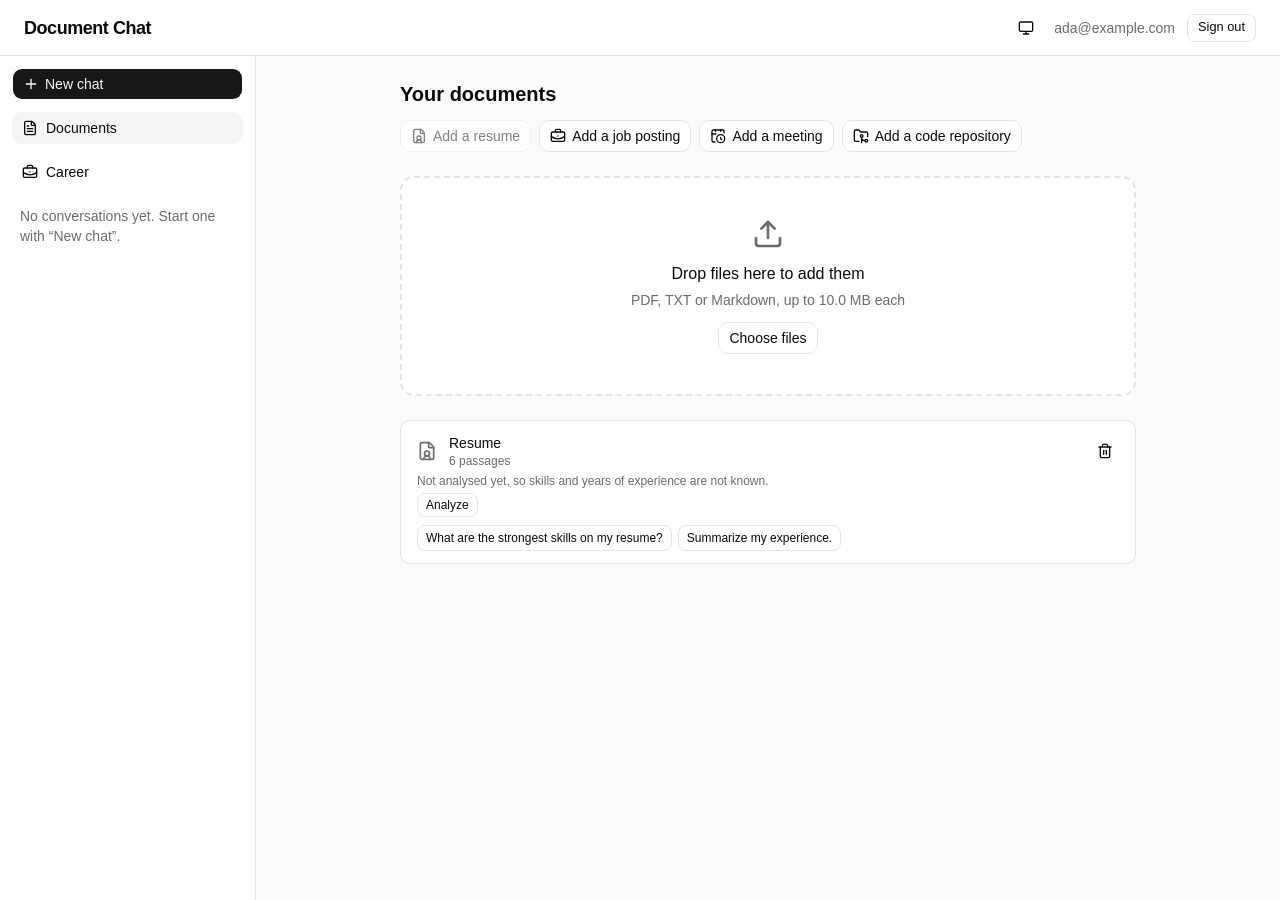
Test: from a resume and a job posting to an answer with its sources › offers to analyse a resume that could not be analysed, and shows what it finds
Check: the list item "Resume" shows "Not analysed yet", box 417,474 -> 768,488
Click the button with aria-label "Analyze Resume". click: (447, 505)
box: 417,493 -> 478,517
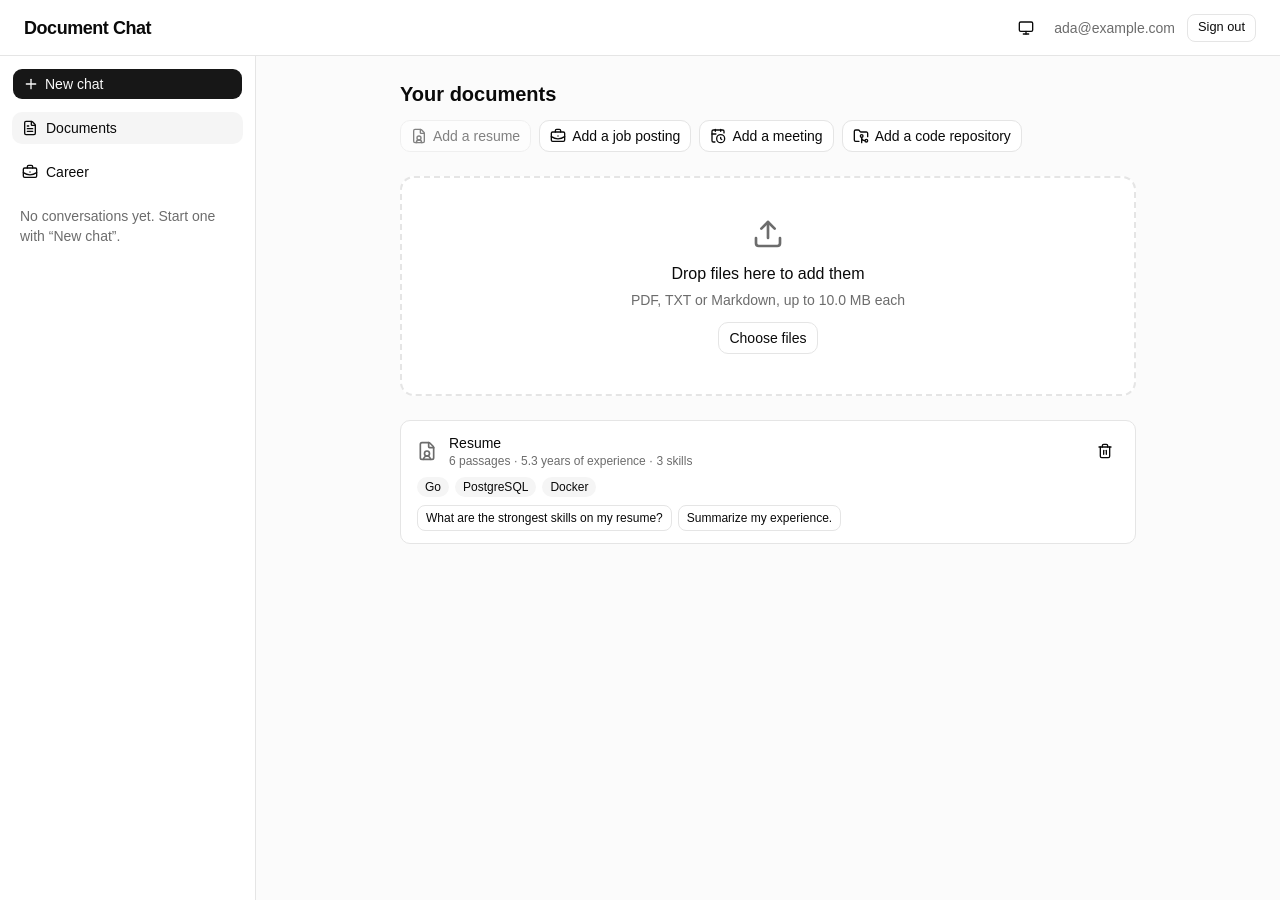
Check: the list named "Skills in the resume" shows "Go", box 425,480 -> 441,494
Check: the list item "Resume" shows "5.3 years of experience", box 449,454 -> 692,468
